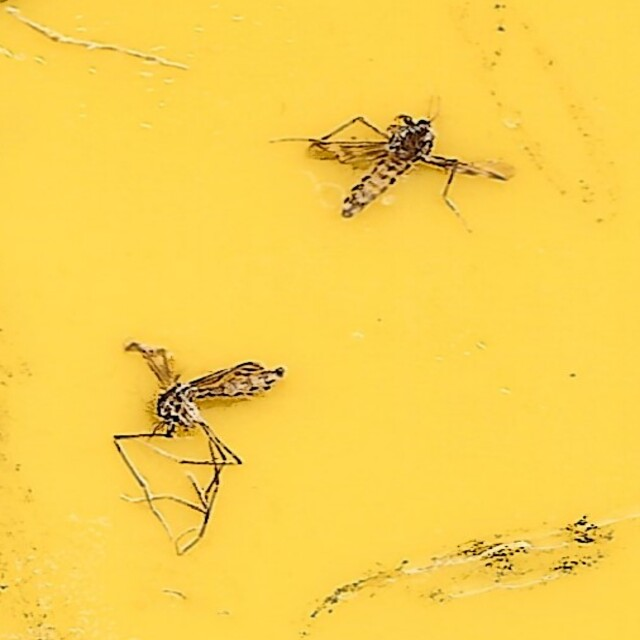Nematocera: (126, 337, 286, 537), (302, 103, 514, 234)
